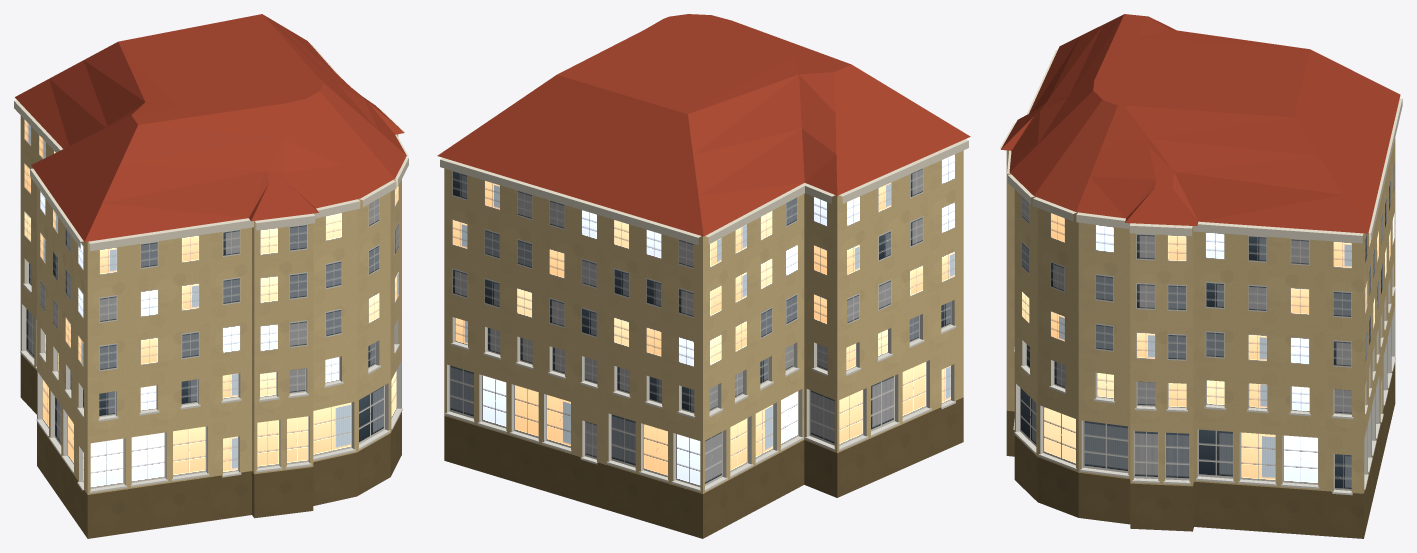
The model's file is z5b_baden672.glb.
The picture shows the model from 3 angles, left to right: view 1: azimuth 30°, elevation 25°; view 2: azimuth 150°, elevation 25°; view 3: azimuth 270°, elevation 25°; orthographic projection. The views are drawn at different scales.
Parts seen in each view (by area): view 1: z5b_baden672; view 2: z5b_baden672; view 3: z5b_baden672.
Boxes of the visible parts, left/top/right/bottom form: z5b_baden672: left=14, top=14, right=408, bottom=538; z5b_baden672: left=437, top=14, right=970, bottom=538; z5b_baden672: left=999, top=14, right=1402, bottom=538.
Size of the model in its own units: 26.85 by 25.44 by 24.28.
Materials: 3 (3 with a texture image).
